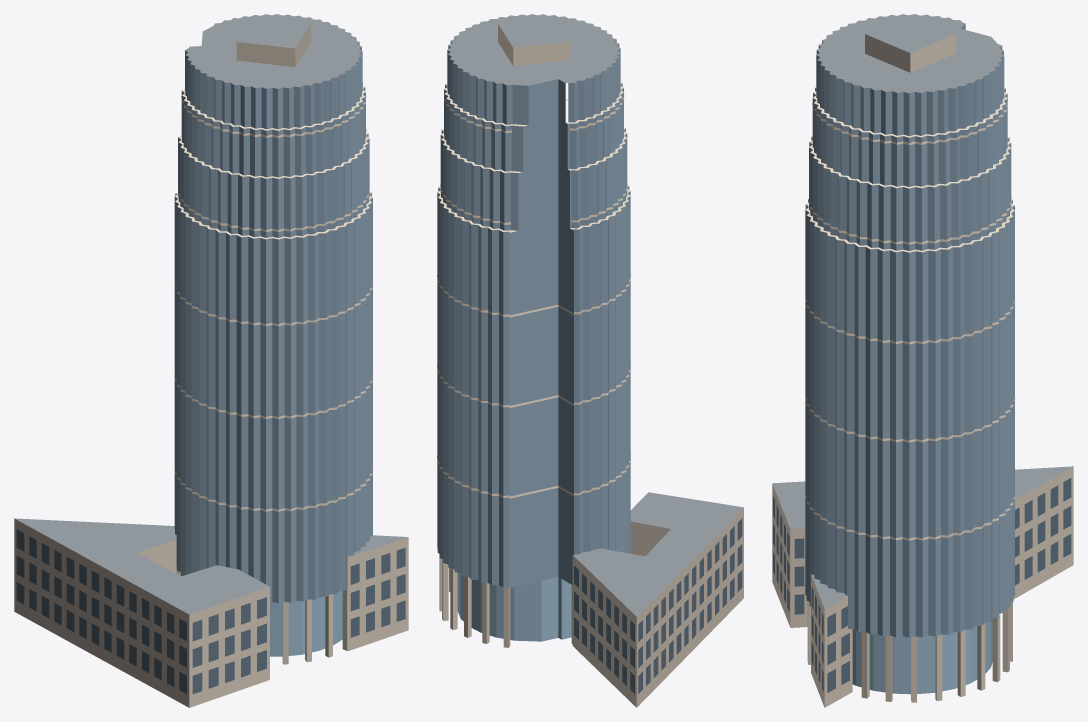
3 views of the same model, side by side, from view 1: azimuth 30°, elevation 25°; view 2: azimuth 150°, elevation 25°; view 3: azimuth 270°, elevation 25° (orthographic). The views are drawn at different scales.
Visible parts, largest first — view 1: 101-california-street; view 2: 101-california-street; view 3: 101-california-street.
Part boxes in pixels (left/top/right/bottom): 101-california-street: left=14, top=14, right=408, bottom=707; 101-california-street: left=437, top=14, right=743, bottom=707; 101-california-street: left=772, top=14, right=1073, bottom=707.
Size of the model in its own units: 93.1 by 190 by 83.
